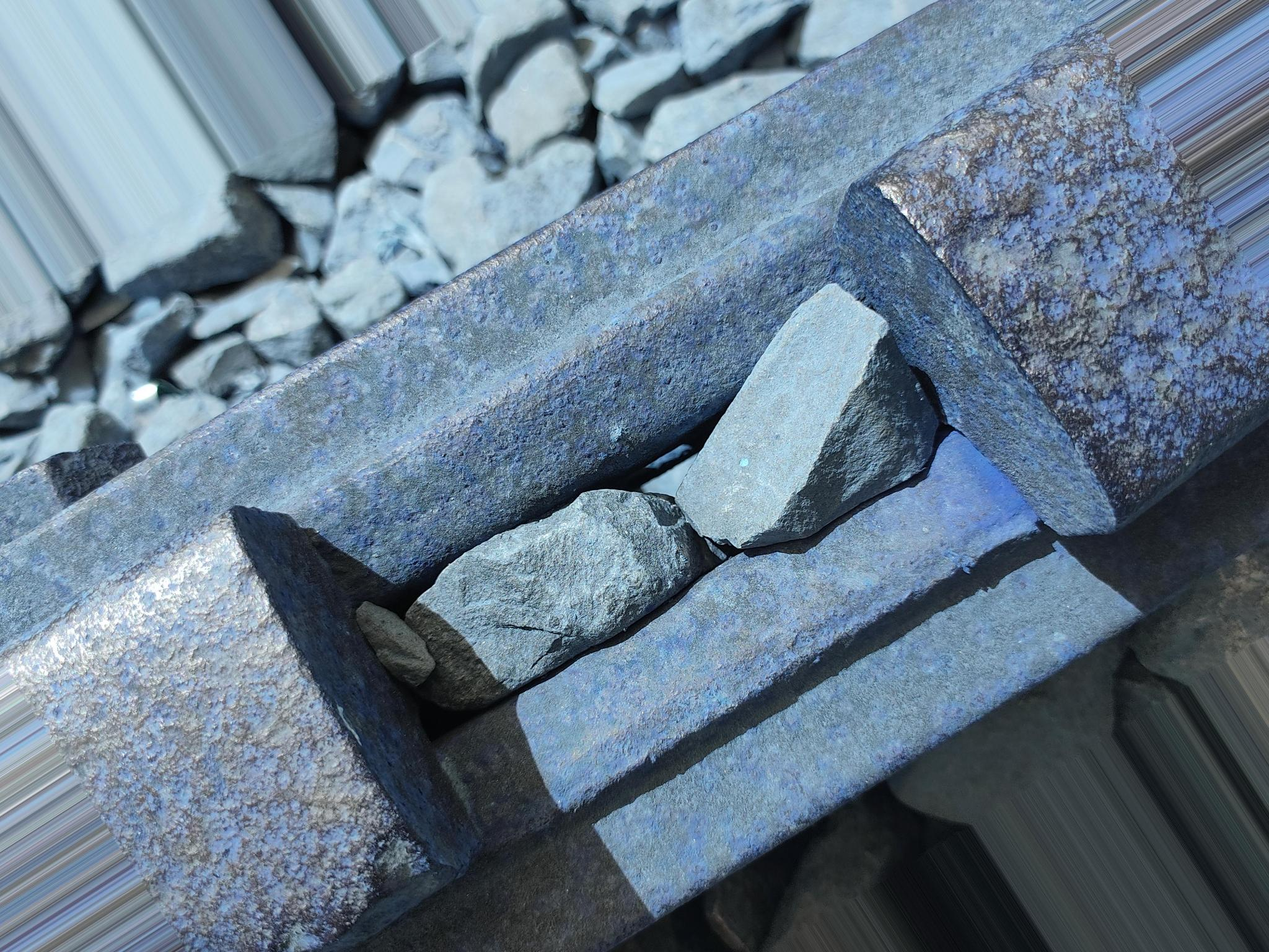person: (183, 188, 1131, 891)
